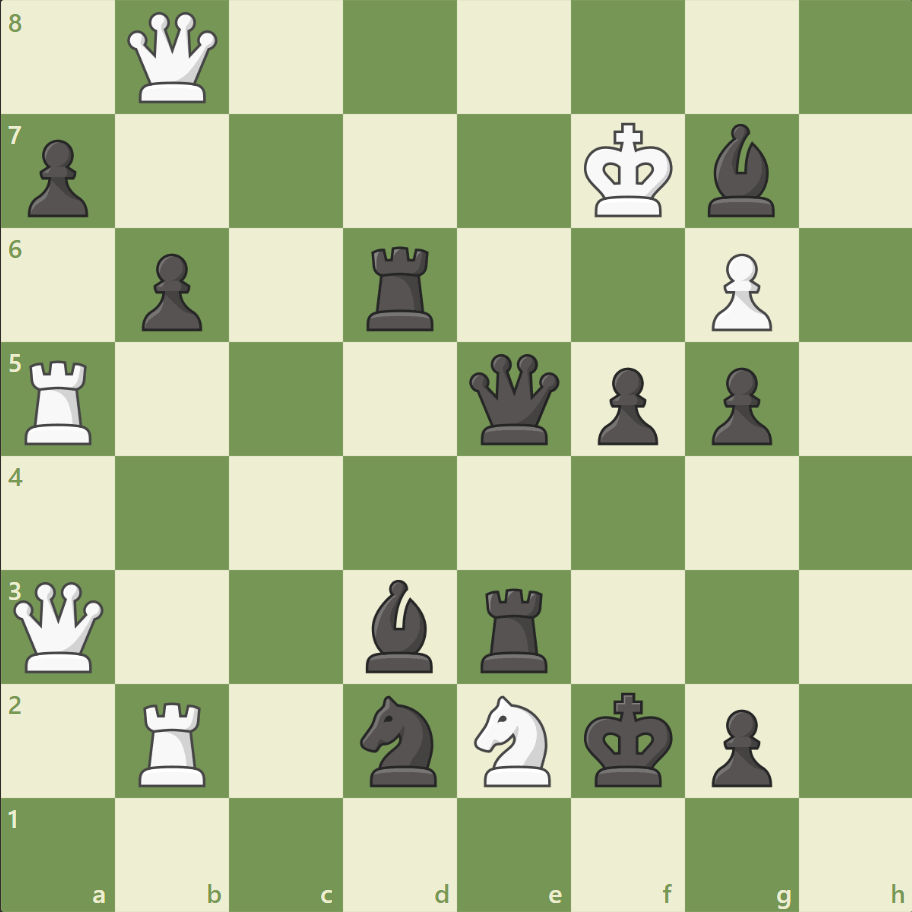K: (579, 117, 679, 225)
N: (465, 688, 562, 791)
P: (701, 246, 776, 337)
Q: (10, 576, 109, 676), (124, 9, 223, 108)
R: (19, 352, 102, 449), (133, 693, 215, 790)
b: (698, 120, 782, 222), (358, 574, 442, 676)
k: (579, 685, 679, 793)
n: (351, 688, 449, 791)
p: (20, 132, 95, 223), (133, 246, 208, 337), (701, 359, 776, 450), (701, 700, 776, 791), (588, 359, 662, 450)
q: (464, 349, 563, 449)
r: (473, 579, 556, 676), (360, 239, 442, 336)
